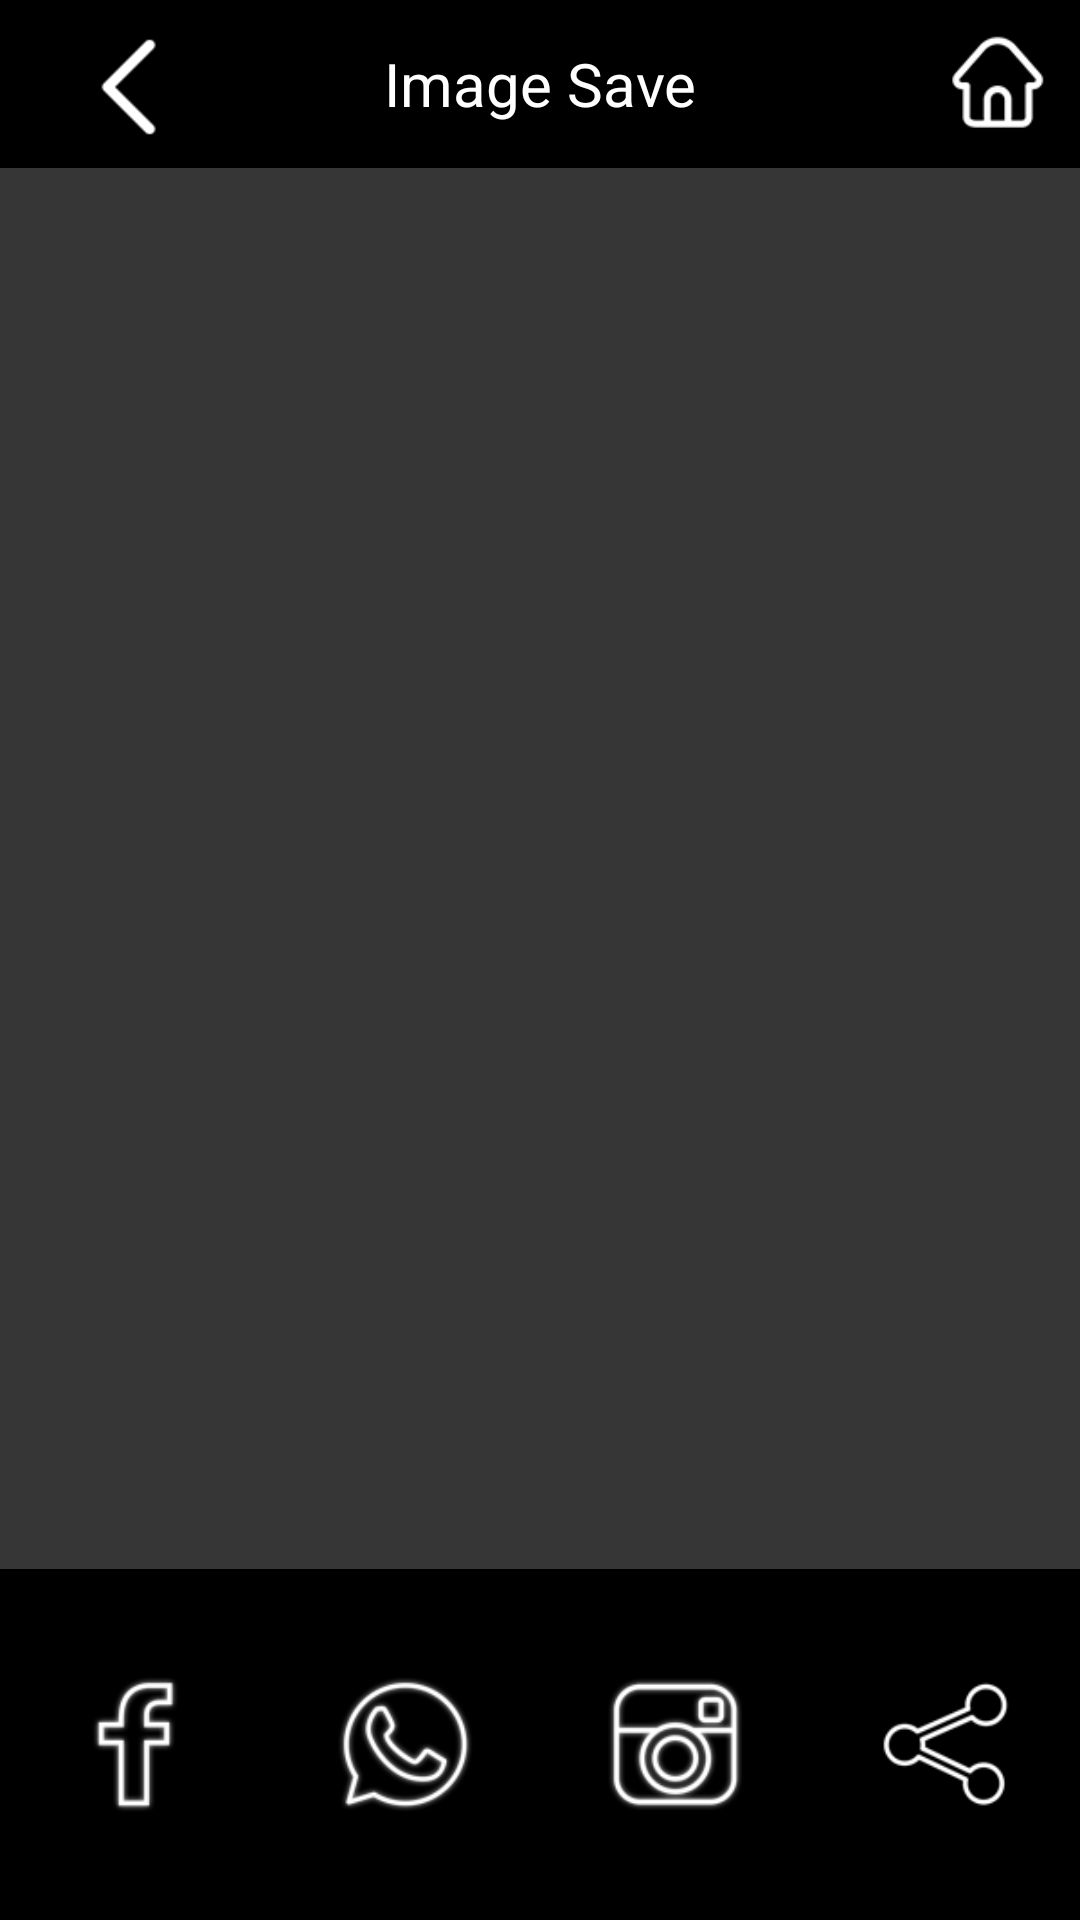

Screen size 1080 × 1920. Icon name, then its box in pixels as (x1, y1, x2, y2):
back: (101, 39, 156, 135)
home: (952, 36, 1044, 128)
sharecccc: (883, 1683, 1008, 1806)
